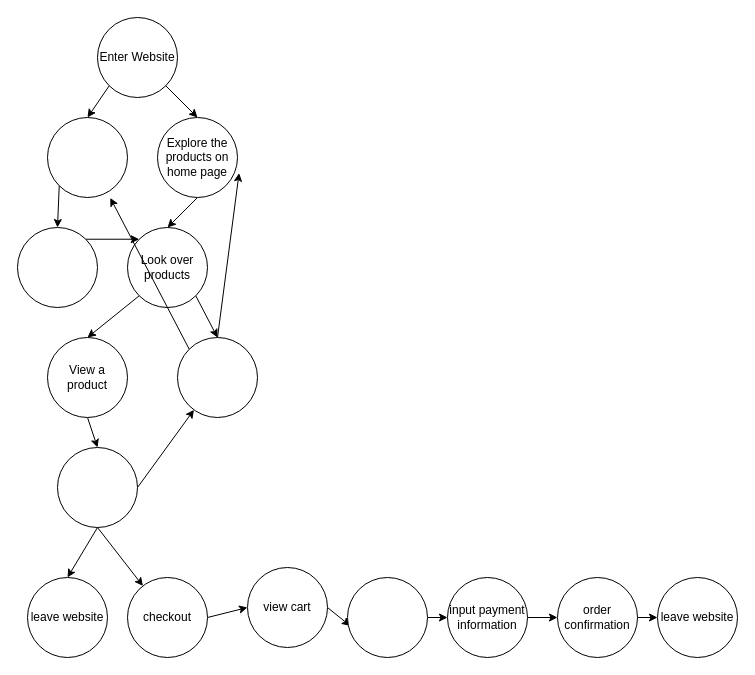
Image size: 755x675. Some labels were removed from this diagram. Here are the shapes that lost their labels. From the top down, the box of each, then its label:
(46, 116, 128, 198): Search for product
(16, 226, 98, 308): provide input of search
(176, 336, 258, 418): continue shopping
(56, 446, 138, 528): add to cart
(346, 576, 428, 658): view payment
